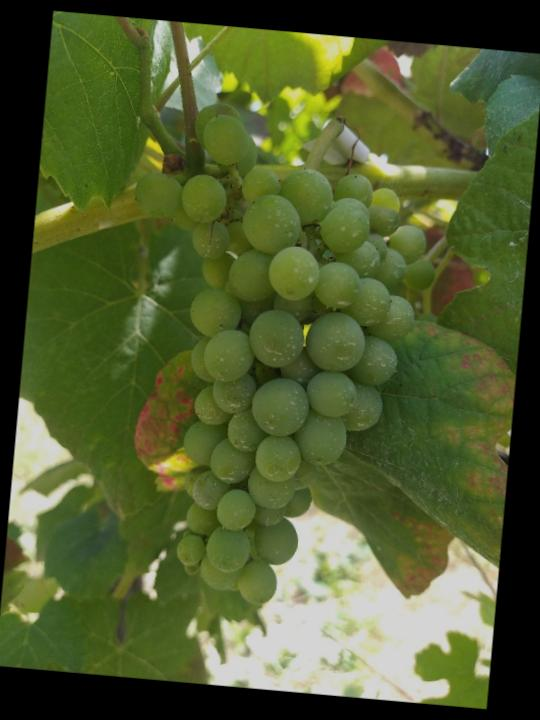grape: (97, 96, 450, 620)
